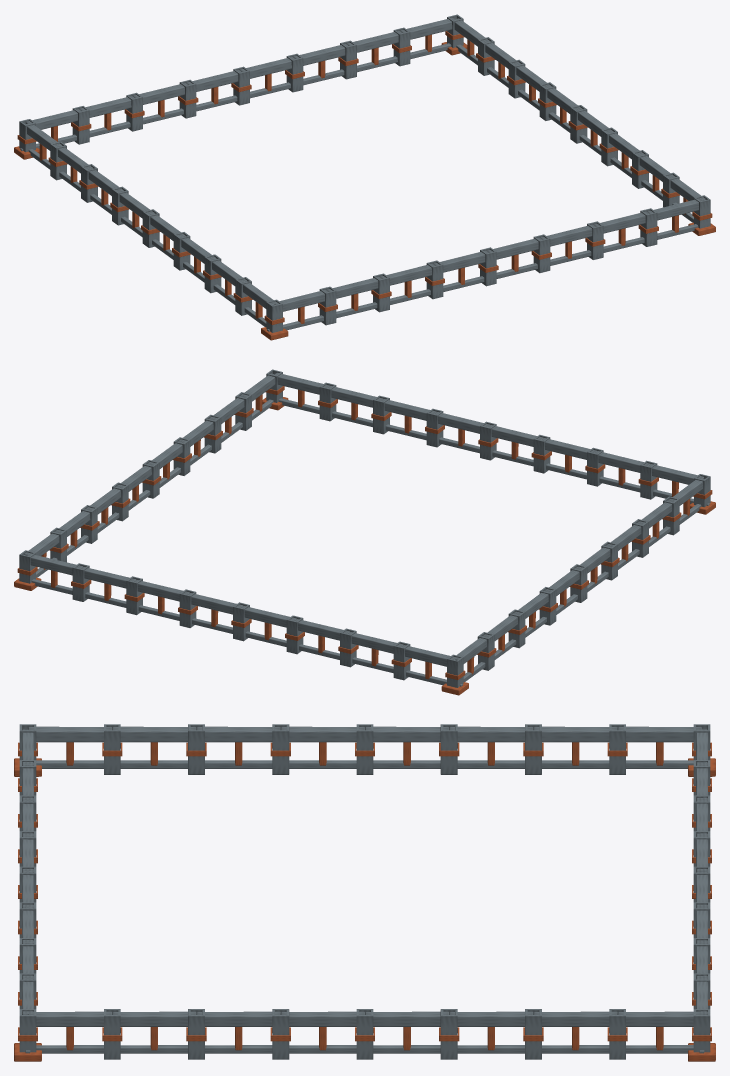
The picture shows the model from 3 angles, top to bottom: view 1: azimuth 30°, elevation 25°; view 2: azimuth 150°, elevation 25°; view 3: azimuth 270°, elevation 25°; orthographic projection. The views are drawn at different scales.
Parts seen in each view (by area): view 1: Tier 0 bay 2-0-2 box girder, Tier 0 bay 2-0-4 box girder, Tier 0 bay 2-0-6 box girder, Tier 0 bay 0-0-5 box girder, Tier 0 bay 2-0-0 box girder, Tier 0 bay 0-0-1 box girder, Tier 0 bay 0-0-4 box girder, Tier 0 bay 0-0-3 box girder, Tier 0 bay 2-0-5 box girder, Tier 0 bay 2-0-1 box girder, Tier 0 bay 2-0-3 box girder, Tier 0 bay 0-0-6 box girder (+4 smaller); view 2: Tier 0 bay 0-0-5 box girder, Tier 0 bay 0-0-7 box girder, Tier 0 bay 0-0-3 box girder, Tier 0 bay 0-0-1 box girder, Tier 0 bay 2-0-1 box girder, Tier 0 bay 2-0-6 box girder, Tier 0 bay 0-0-4 box girder, Tier 0 bay 0-0-6 box girder, Tier 0 bay 2-0-4 box girder, Tier 0 bay 0-0-2 box girder, Tier 0 bay 2-0-2 box girder, Tier 0 bay 2-0-0 box girder (+4 smaller); view 3: Tier 0 bay 3-0-6 box girder, Tier 0 bay 3-0-1 box girder, Tier 0 bay 3-0-3 box girder, Tier 0 bay 3-0-4 box girder, Tier 0 bay 3-0-2 box girder, Tier 0 bay 3-0-7 box girder, Tier 0 bay 3-0-5 box girder, Tier 0 bay 3-0-0 box girder, Tier 0 bay 1-0-1 box girder, Tier 0 bay 1-0-6 box girder, Tier 0 bay 1-0-4 box girder, Tier 0 bay 1-0-5 box girder (+36 smaller).
Part boxes in pixels (x1,y1,x2,y2): Tier 0 bay 2-0-2 box girder: (293, 44, 348, 65); Tier 0 bay 2-0-4 box girder: (186, 70, 241, 91); Tier 0 bay 2-0-6 box girder: (79, 96, 134, 117); Tier 0 bay 0-0-5 box girder: (540, 224, 595, 246); Tier 0 bay 2-0-0 box girder: (400, 17, 454, 39); Tier 0 bay 0-0-1 box girder: (326, 276, 381, 298); Tier 0 bay 0-0-4 box girder: (487, 237, 542, 259); Tier 0 bay 0-0-3 box girder: (433, 250, 488, 272); Tier 0 bay 2-0-5 box girder: (133, 83, 188, 104); Tier 0 bay 2-0-1 box girder: (347, 30, 401, 52); Tier 0 bay 2-0-3 box girder: (240, 57, 294, 78); Tier 0 bay 0-0-6 box girder: (594, 211, 648, 233); Tier 0 bay 0-0-5 box girder: (381, 399, 436, 420); Tier 0 bay 0-0-7 box girder: (274, 372, 329, 394); Tier 0 bay 0-0-3 box girder: (488, 425, 543, 446); Tier 0 bay 0-0-1 box girder: (595, 451, 650, 472); Tier 0 bay 2-0-1 box girder: (81, 566, 136, 588); Tier 0 bay 2-0-6 box girder: (348, 632, 403, 653); Tier 0 bay 0-0-4 box girder: (434, 412, 489, 433); Tier 0 bay 0-0-6 box girder: (327, 385, 382, 407); Tier 0 bay 2-0-4 box girder: (241, 606, 296, 627); Tier 0 bay 0-0-2 box girder: (541, 438, 596, 459); Tier 0 bay 2-0-2 box girder: (134, 580, 189, 601); Tier 0 bay 2-0-0 box girder: (27, 554, 82, 575); Tier 0 bay 3-0-6 box girder: (112, 726, 196, 742); Tier 0 bay 3-0-1 box girder: (533, 726, 617, 742); Tier 0 bay 3-0-3 box girder: (365, 726, 449, 742); Tier 0 bay 3-0-4 box girder: (280, 726, 364, 742); Tier 0 bay 3-0-2 box girder: (449, 726, 533, 742); Tier 0 bay 3-0-7 box girder: (28, 726, 112, 742); Tier 0 bay 3-0-5 box girder: (196, 726, 280, 742); Tier 0 bay 3-0-0 box girder: (617, 726, 701, 742); Tier 0 bay 1-0-1 box girder: (112, 1011, 196, 1026); Tier 0 bay 1-0-6 box girder: (533, 1011, 617, 1026); Tier 0 bay 1-0-4 box girder: (365, 1011, 449, 1026); Tier 0 bay 1-0-5 box girder: (449, 1011, 533, 1026).
Size of the model in its own units: 3.75 by 0.2571 by 3.75.
2 materials, 2 textured.
